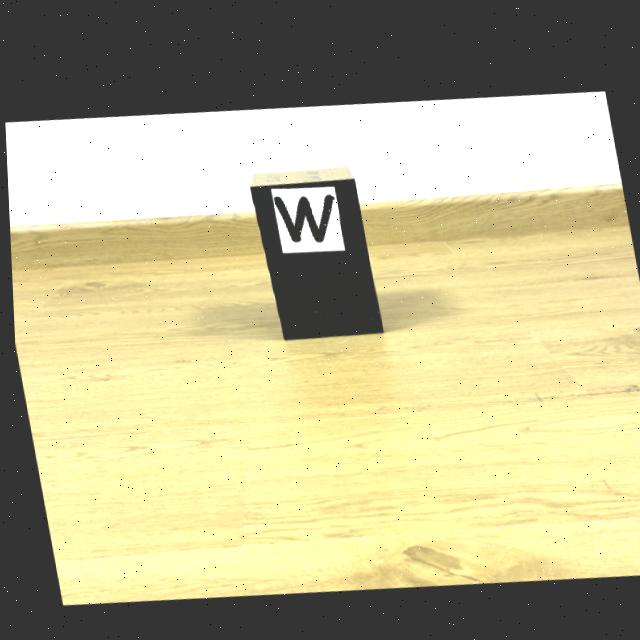W: (272, 188, 332, 238)
